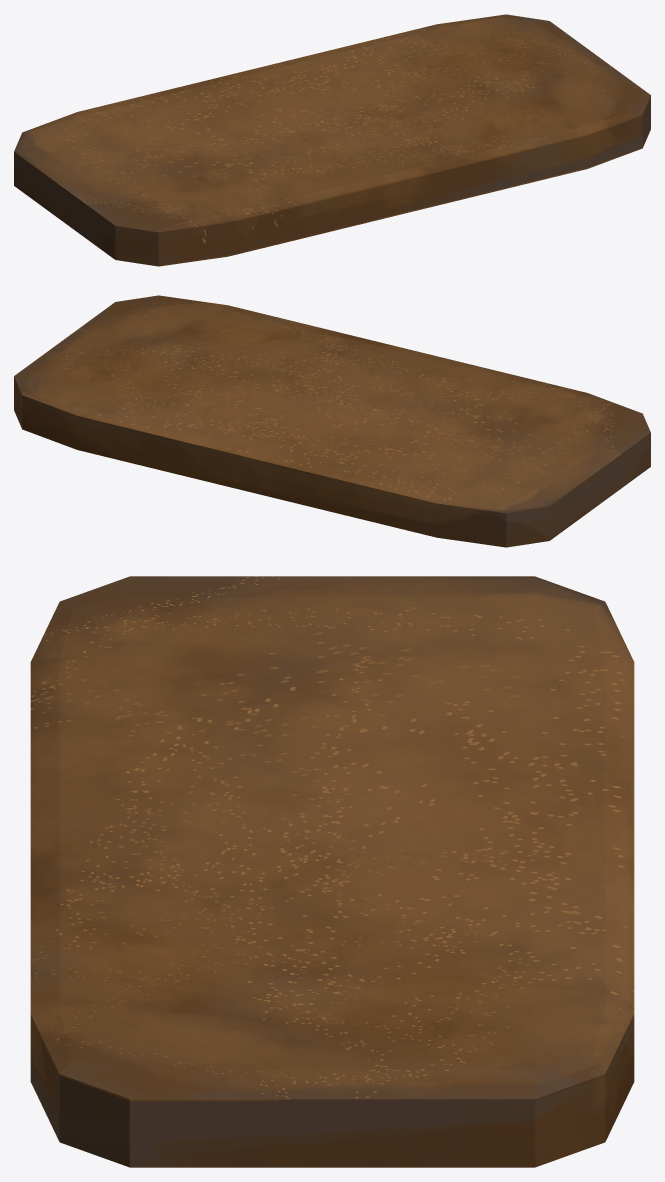
Rendered from platform.fbx.
3 renders of one model, top to bottom at view 1: azimuth 30°, elevation 25°; view 2: azimuth 150°, elevation 25°; view 3: azimuth 270°, elevation 25°, orthographic. The views are drawn at different scales.
Parts seen in each view (by area): view 1: Cube.014; view 2: Cube.014; view 3: Cube.014.
Boxes of the visible parts, x1,y1,x2,y2 form: Cube.014: (14, 14, 650, 266); Cube.014: (14, 295, 650, 547); Cube.014: (30, 576, 634, 1167).
Size of the model in its own units: 749 by 54.08 by 365.
Materials: 1 (1 with a texture image).
